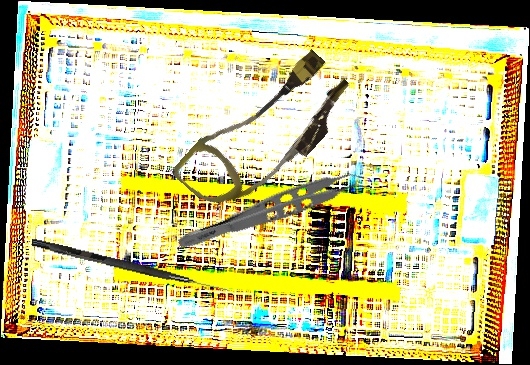Cannula: (169, 33, 363, 234)
Hook Surgical: (30, 238, 230, 294)
Tissue Forceps: (175, 160, 371, 266)
